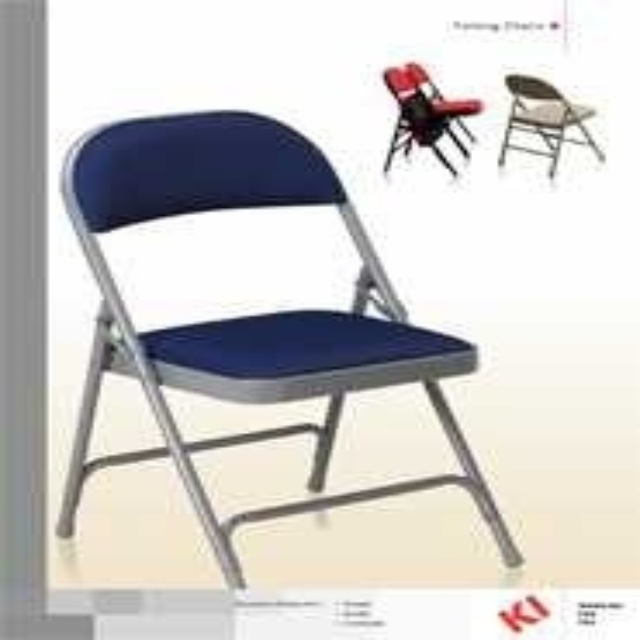obstacle: (59, 110, 522, 589)
